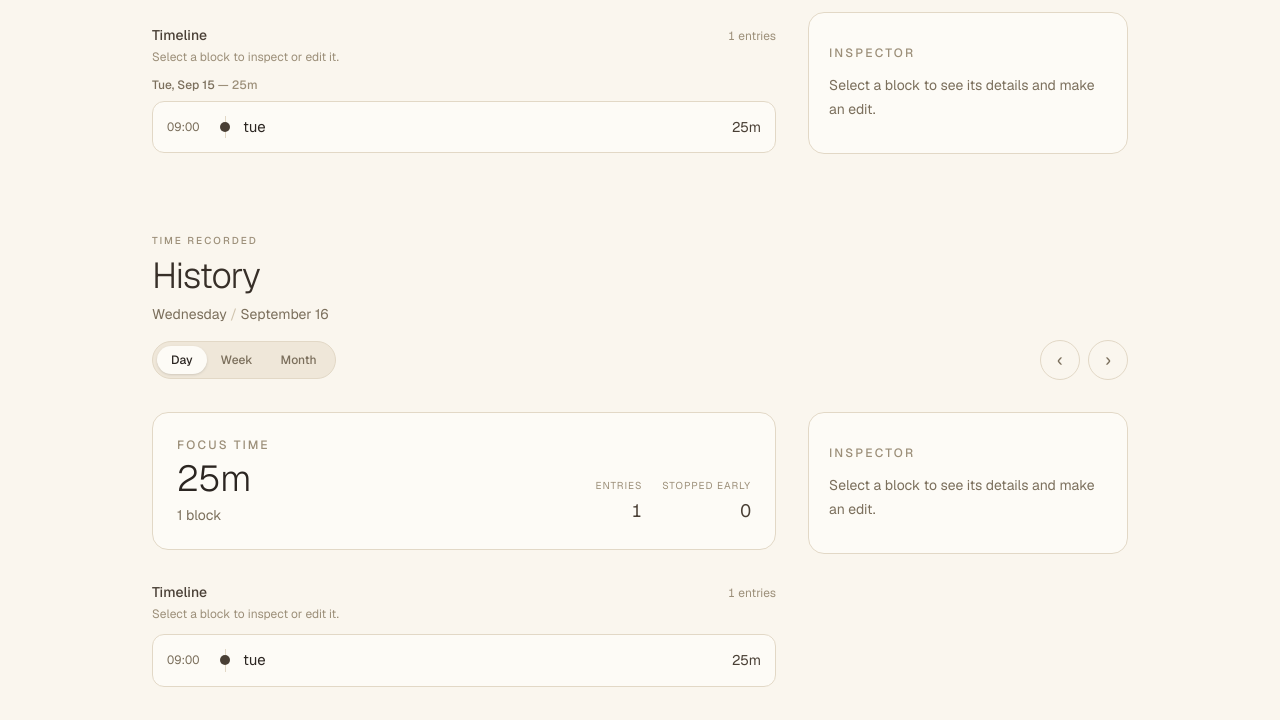
Test: HistoryPage daily bars (SCR-20) › drills into Day from a bar and refetches that local day
(page scrolled)
Step 1. Click the button "Week" → (237, 360), box [207, 346, 267, 374]
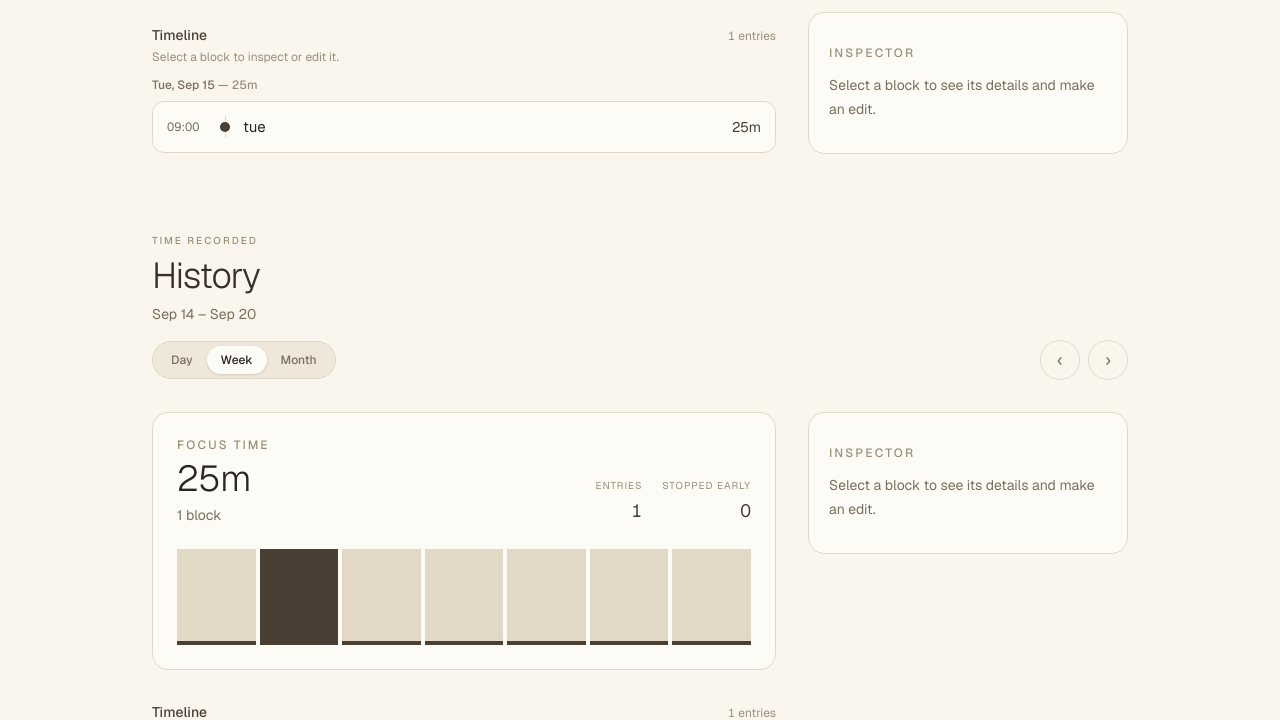
Step 2. Click the button named "Show Tuesday, Sep 15 — 25m" → (299, 597), box [260, 549, 338, 645]
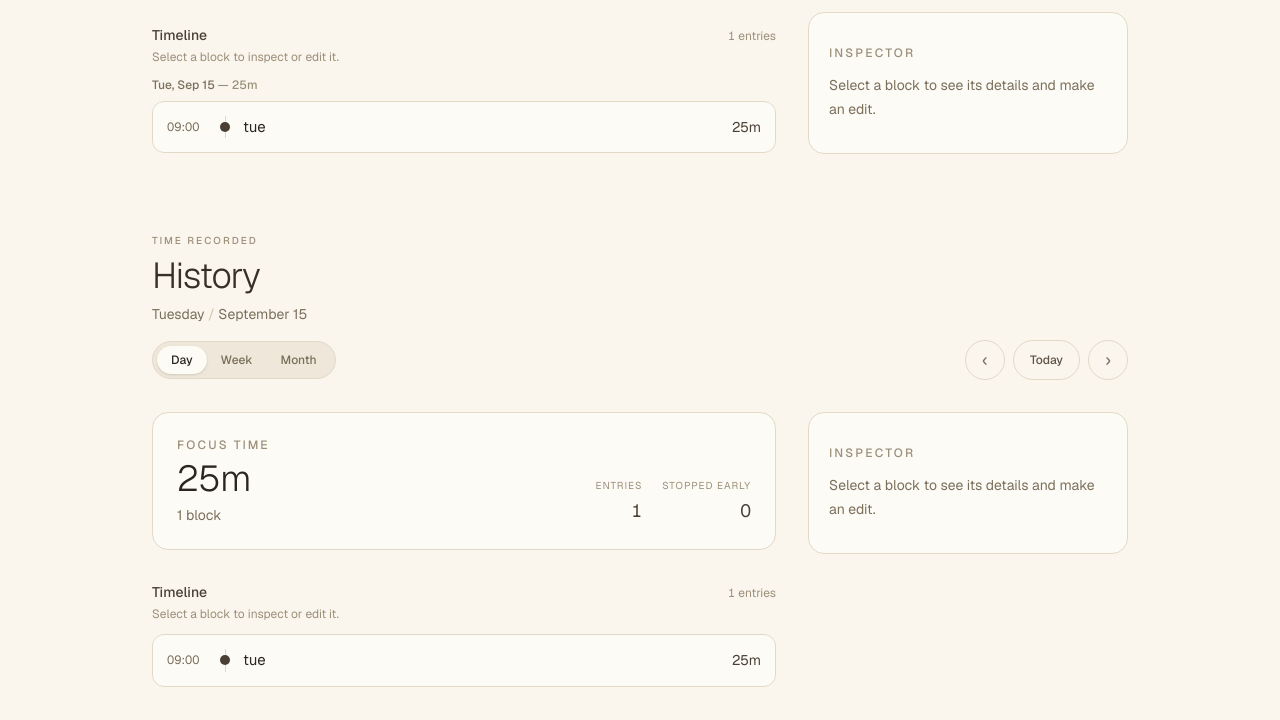
Expected: the button "Day" is shown, [157, 346, 207, 374]
Now the text "Tuesday" is shown, box [152, 305, 205, 323]
